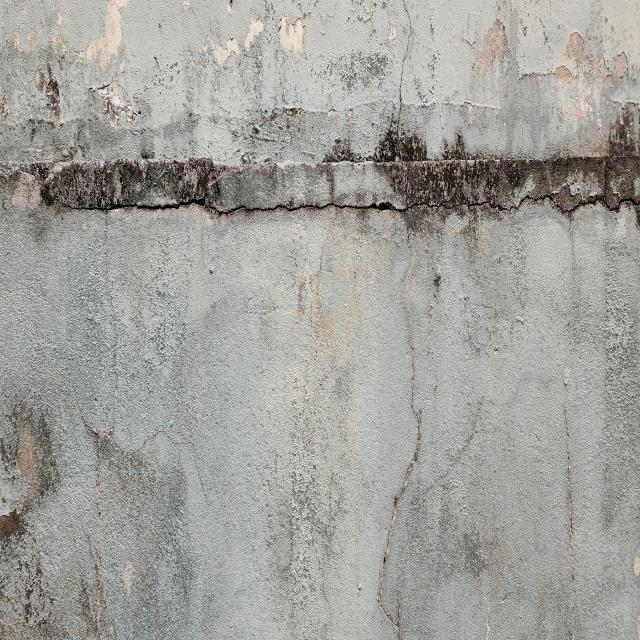SurfaceCrack: (0, 102, 598, 253)
